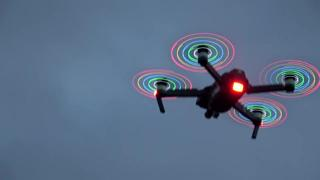UAV: (132, 33, 320, 140)
